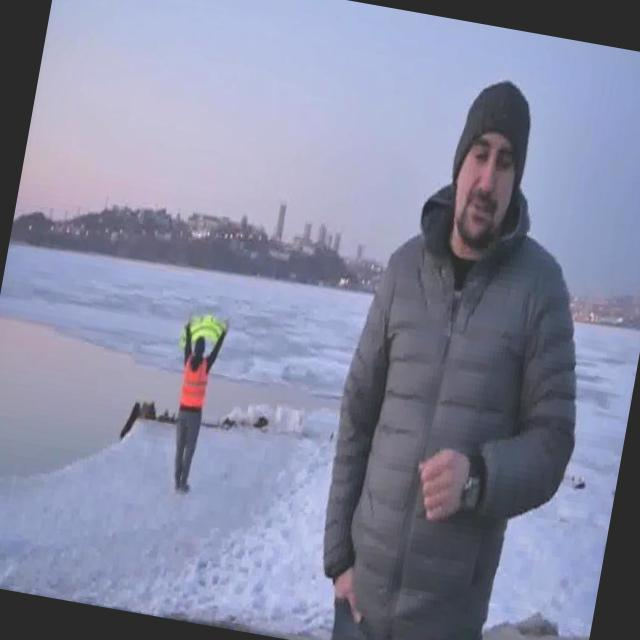no_vest: (303, 234, 600, 640)
vest: (177, 308, 228, 361), (176, 352, 212, 411)
